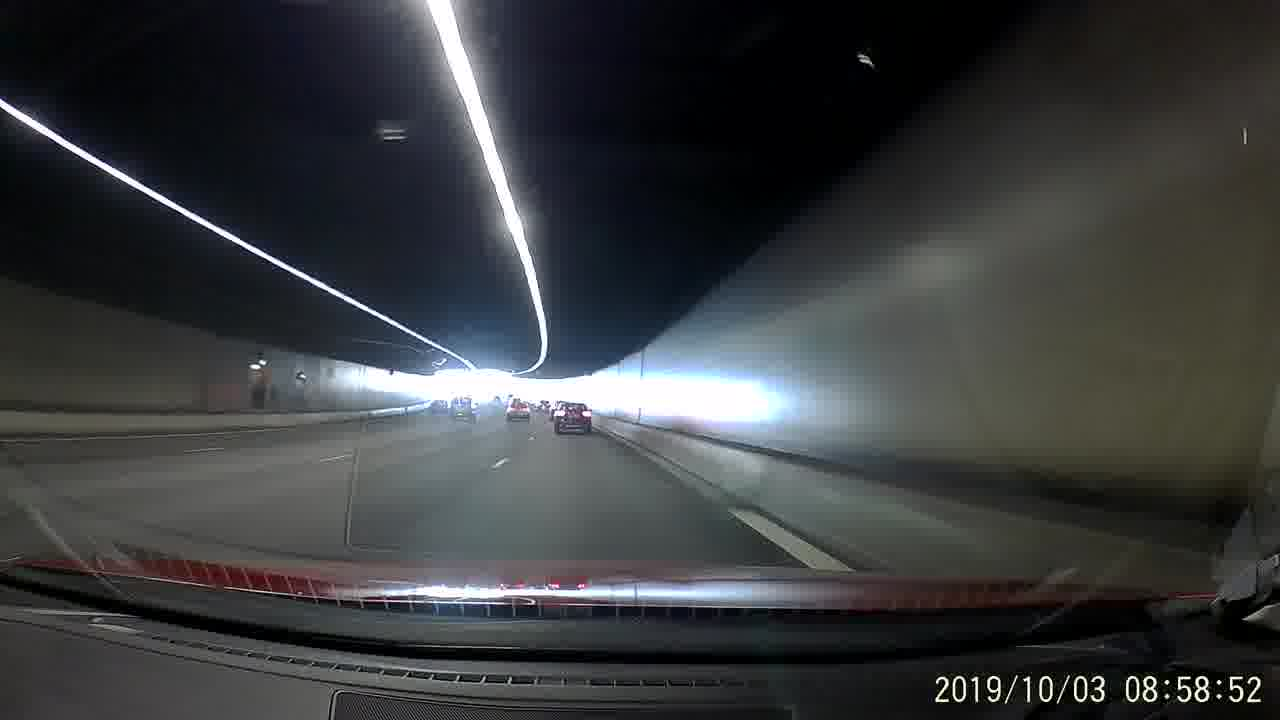car: (554, 399, 592, 437), (504, 400, 531, 423)
